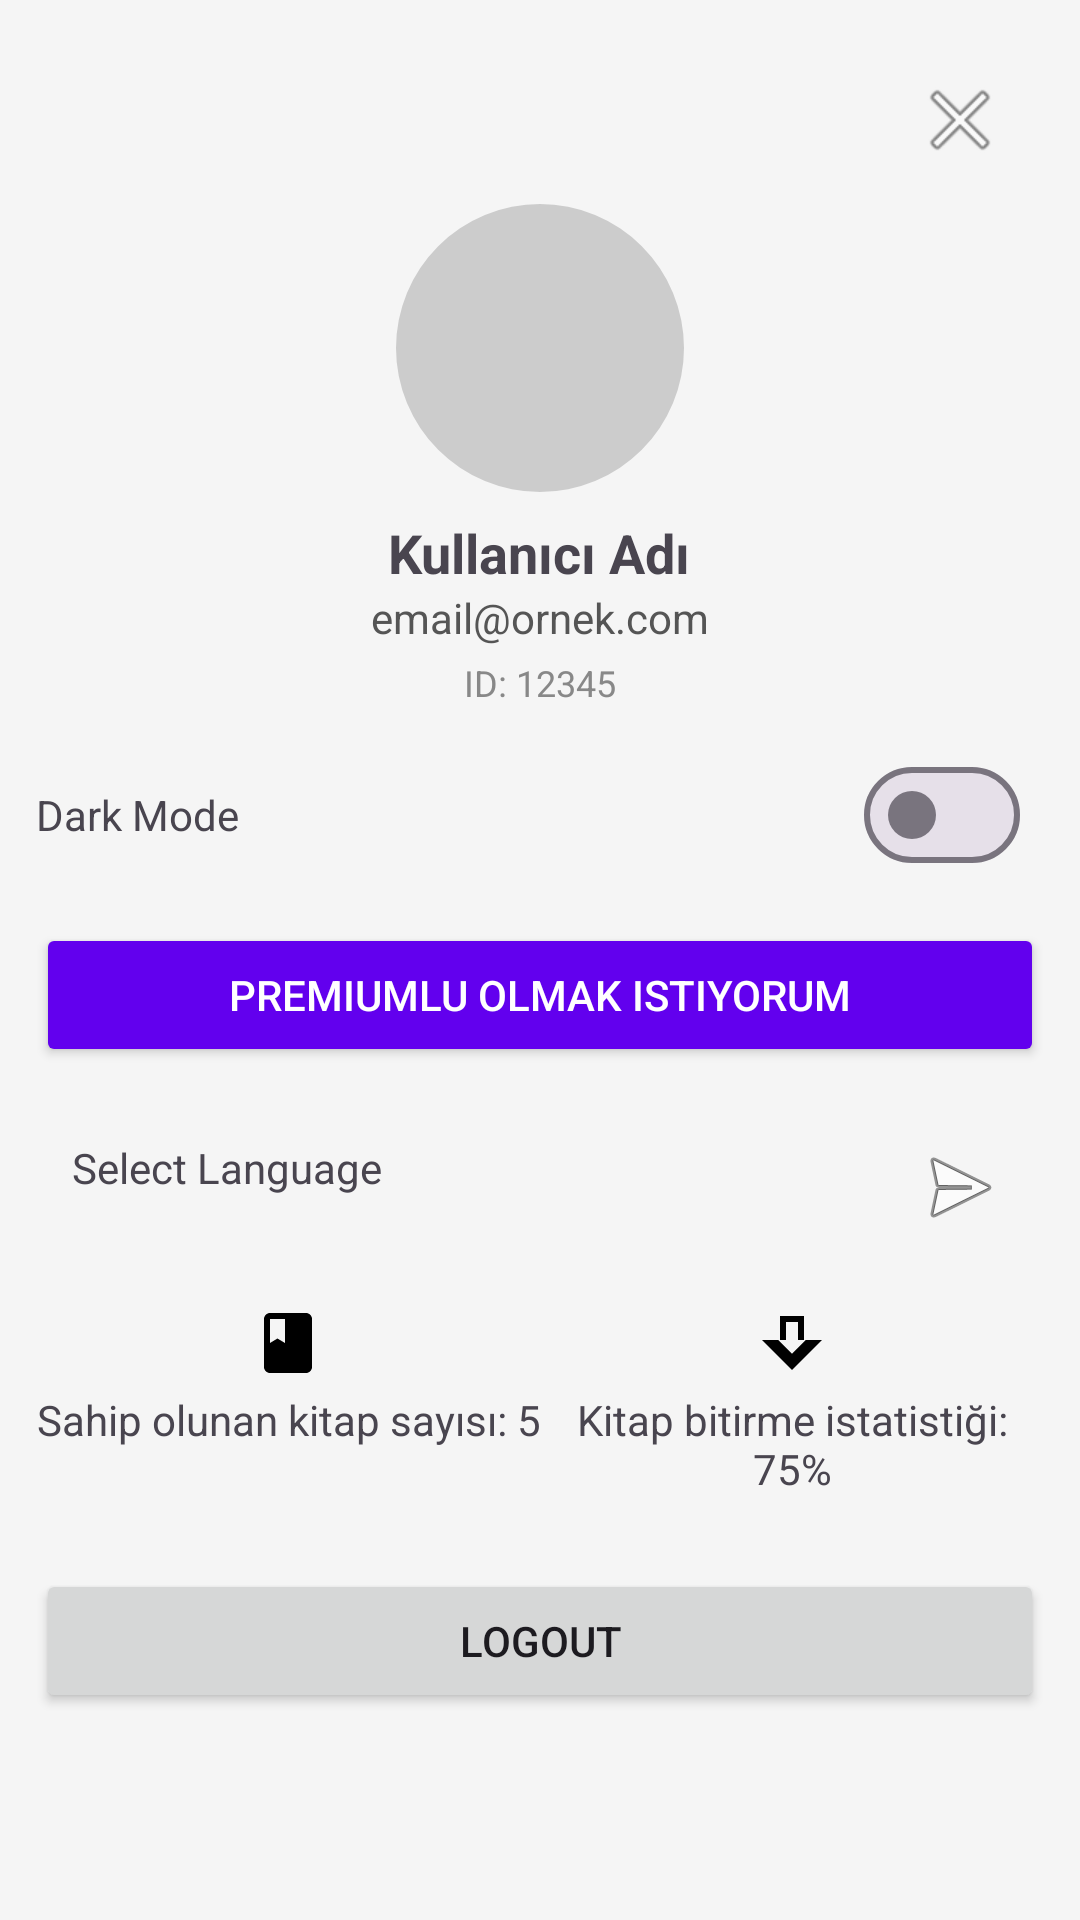

Named icons in this screenshot (1080×1920) and their centers, (x,y):
book: (288,1343)
close clear cancel: (960,120)
